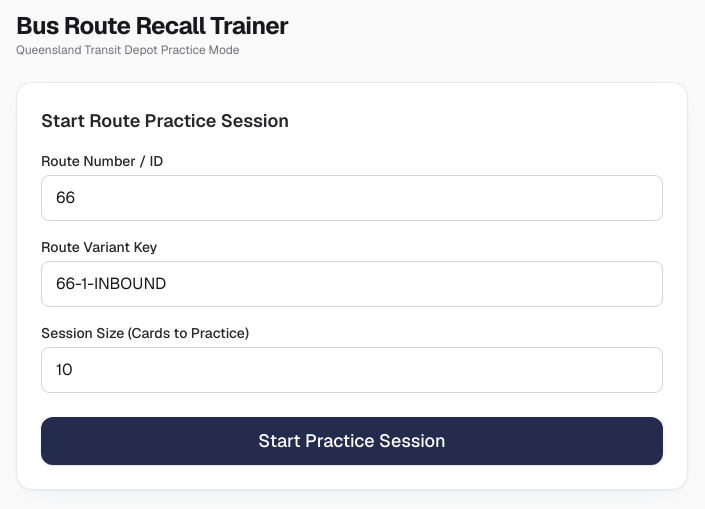
Test: Change 10 Phase 10.3: RecallPracticePage View States & UX Acceptance › 1. IDLE: renders start form and submits parameters to start practice
expect the heading "Start Route Practice Session" is shown: met, box 41,109 -> 289,132
expect the field labelled "Route Number / ID" holds "66": met, box 41,175 -> 663,221
Click the button "Start Practice Session" at (352, 441), box 41,417 -> 663,465
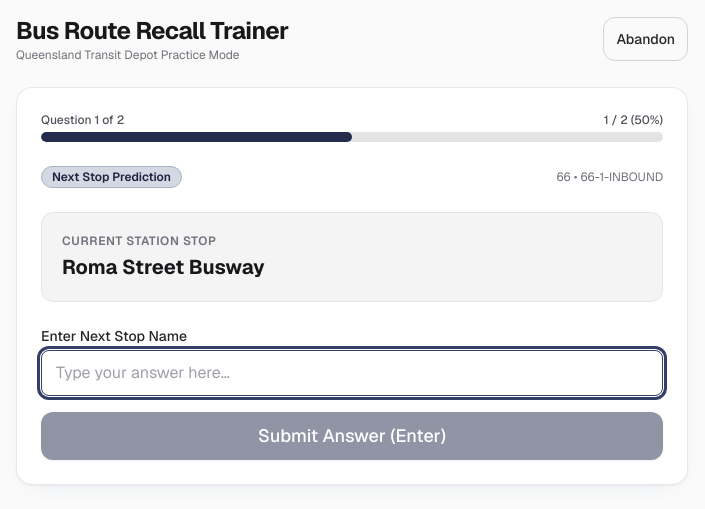
expect the text "Roma Street Busway" is shown: met, box 62,254 -> 265,280
expect the text "Next Stop Prediction" is shown: met, box 41,166 -> 182,188
